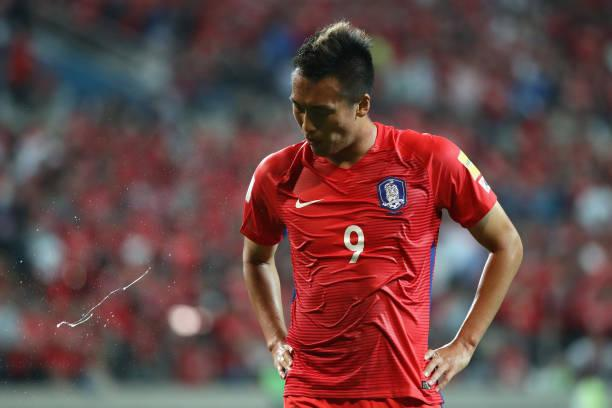Spitting: (248, 0, 412, 179)
